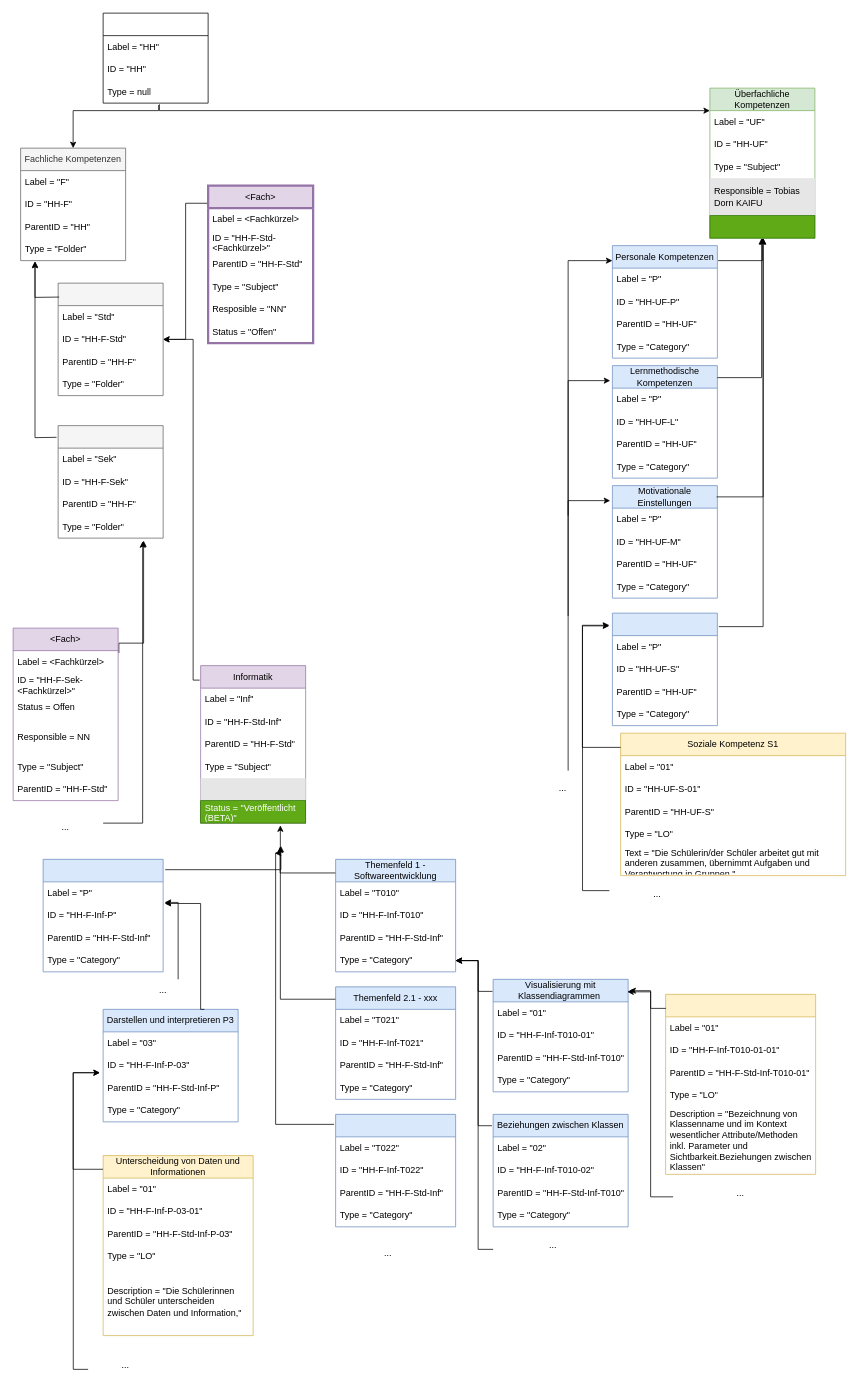
This 859x1390 diagram has some shape labels left out. Each missing label, with the box of its shape:
Klassendiagramme: (665, 994, 816, 1174)
Land: (102, 12, 208, 103)
Prozessbezogene Kompetenzen: (42, 859, 163, 972)
Responsible = Tobias Dorn. KAIFU: (200, 778, 305, 800)
Sekundarstufe: (57, 425, 163, 538)
Soziale Kompetenzen: (612, 612, 717, 726)
Status = Veröffentlicht (BETA): (709, 215, 815, 238)
Studienstufe: (57, 282, 163, 396)
Themenfeld 2.2 - xxx: (335, 1114, 456, 1227)
